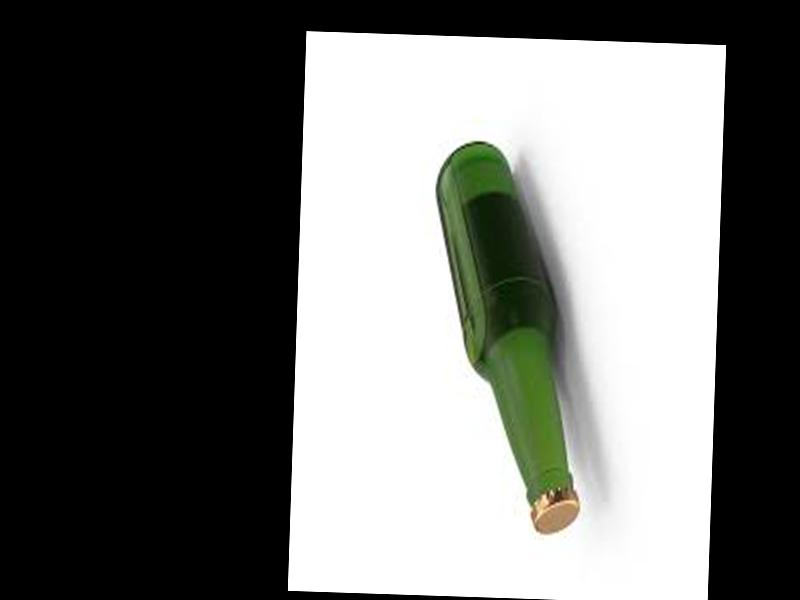Beer: (424, 139, 592, 537)
